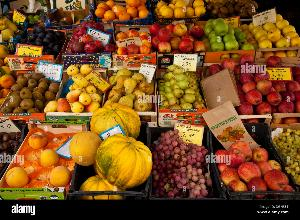apple: (206, 62, 300, 112)
grape: (150, 130, 208, 198)
kiwi: (5, 70, 52, 118), (201, 0, 257, 18)
orange: (211, 126, 295, 196), (195, 17, 245, 63), (248, 11, 300, 53), (154, 20, 206, 58), (114, 20, 152, 59), (94, 1, 150, 22)
peach: (6, 132, 80, 198)
pear: (57, 54, 103, 112), (158, 64, 206, 113), (105, 68, 153, 114)
pomegranate: (70, 21, 113, 59)
